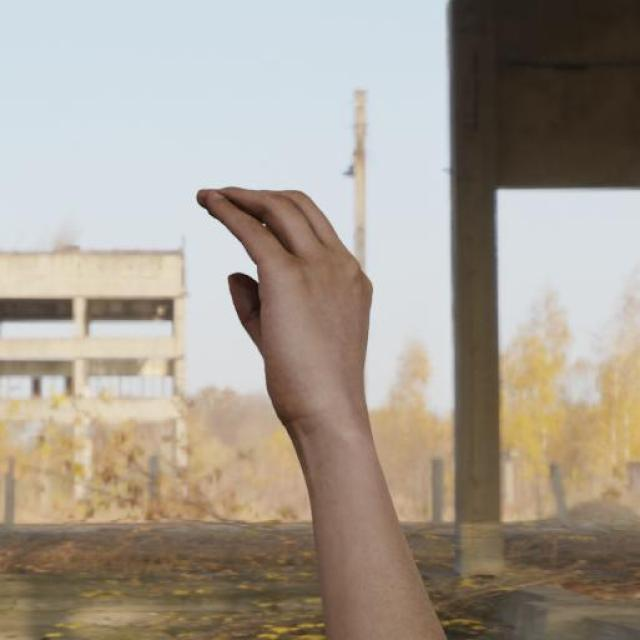C: (187, 183, 386, 421)
